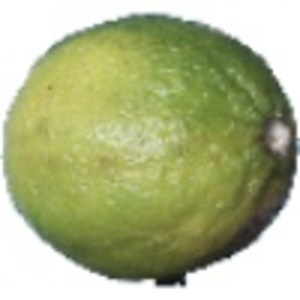limão: (1, 13, 300, 288)
